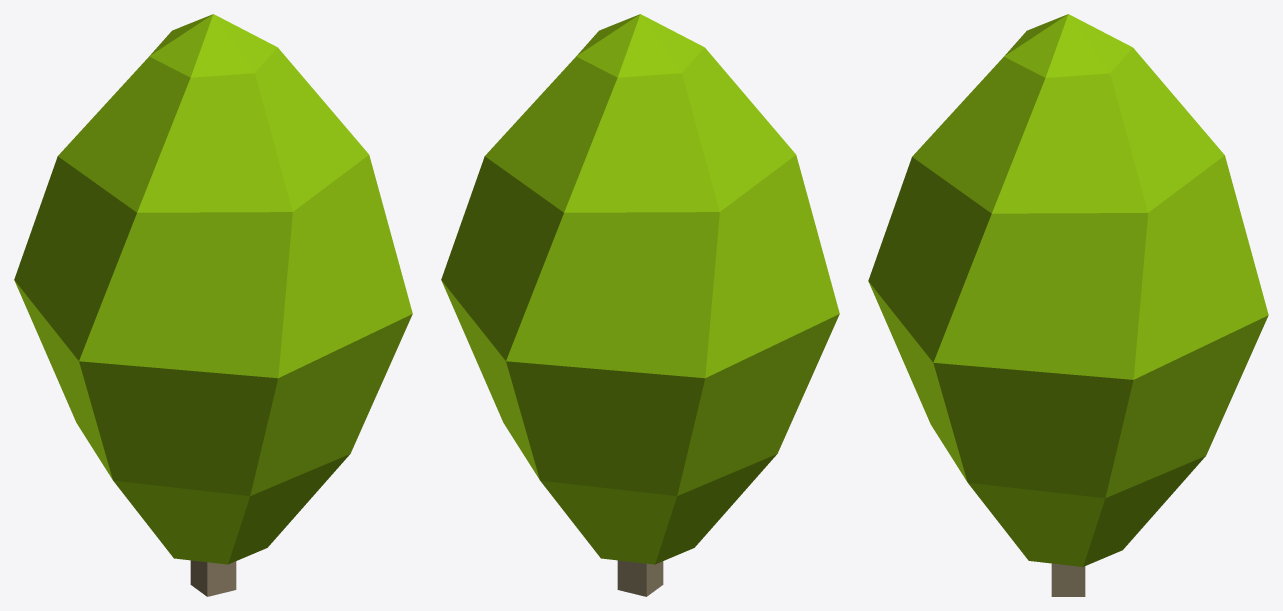
The model's file is tree_spheric_3.fbx.
3 renders of one model, left to right at view 1: azimuth 30°, elevation 25°; view 2: azimuth 150°, elevation 25°; view 3: azimuth 270°, elevation 25°, orthographic.
Visible parts, largest first — view 1: tree_spheric_3; view 2: tree_spheric_3; view 3: tree_spheric_3.
Boxes of the visible parts, <box> form: tree_spheric_3: <box>14,14,412,596</box>; tree_spheric_3: <box>441,14,839,596</box>; tree_spheric_3: <box>868,14,1268,596</box>.
Bounding box in the file's own units: 143 × 234 × 148.
